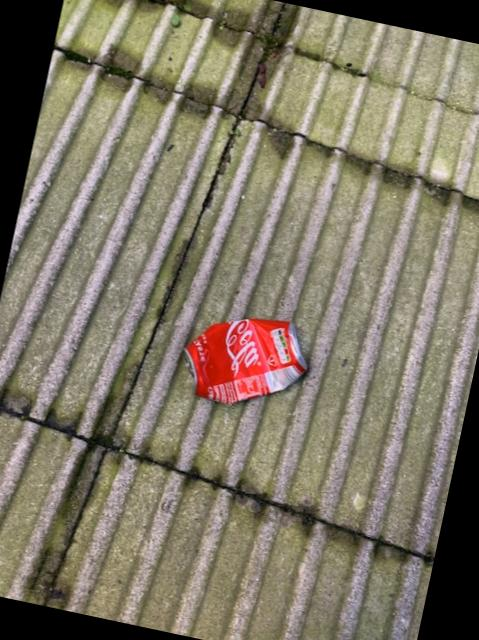metal: (183, 320, 304, 404)
